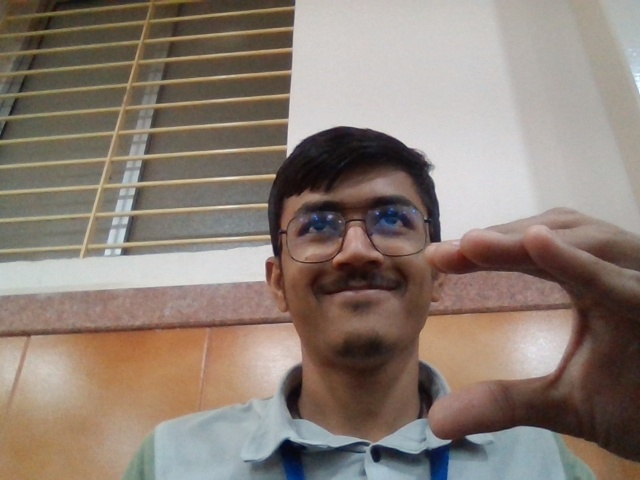No: (418, 200, 640, 467)
